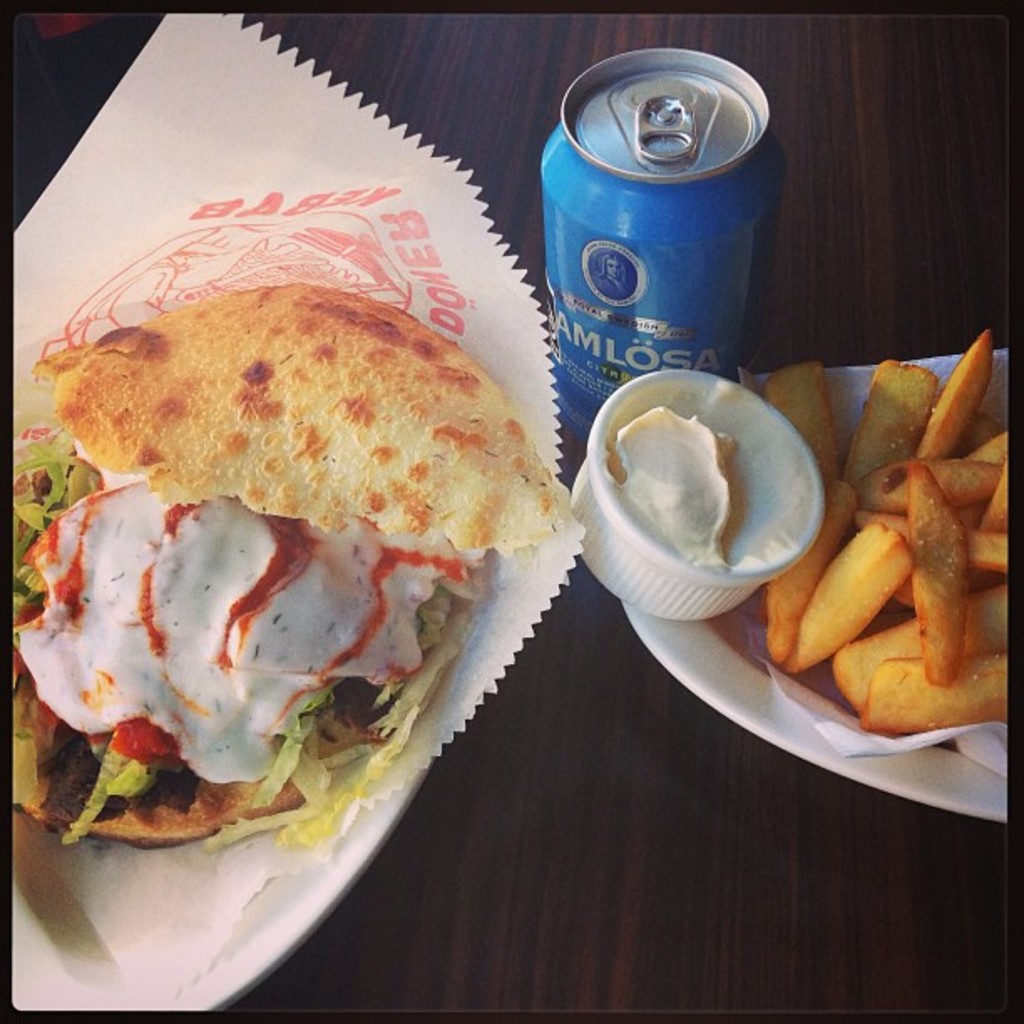French fries: (741, 317, 1022, 773)
